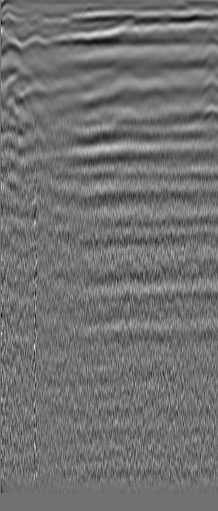오수: (22, 29, 47, 56)
우수: (163, 22, 183, 42)
